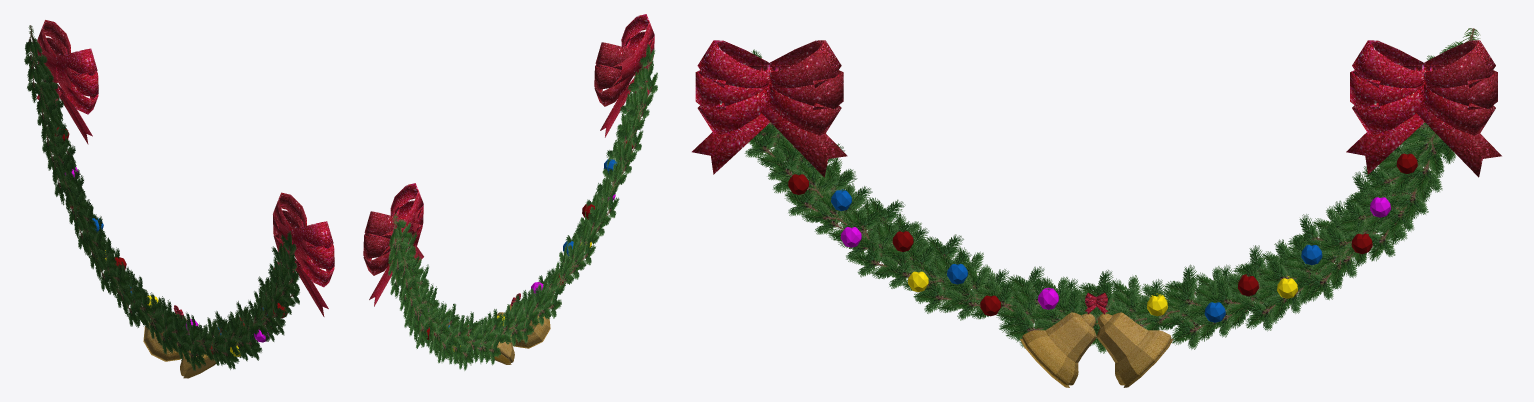
Rendered from garland_long.obj.
3 views of the same model, side by side, from view 1: azimuth 30°, elevation 25°; view 2: azimuth 150°, elevation 25°; view 3: azimuth 270°, elevation 25° (orthographic). The views are drawn at different scales.
Parts seen in each view (by area): view 1: needles.001; view 2: needles.001; view 3: needles.001.
Part boxes in pixels (box(x1,y1,x2,y2)): needles.001: box(24, 20, 334, 378); needles.001: box(363, 14, 657, 370); needles.001: box(692, 28, 1501, 387).
Size of the model in its own units: 0.9071 by 5.09 by 10.67.
